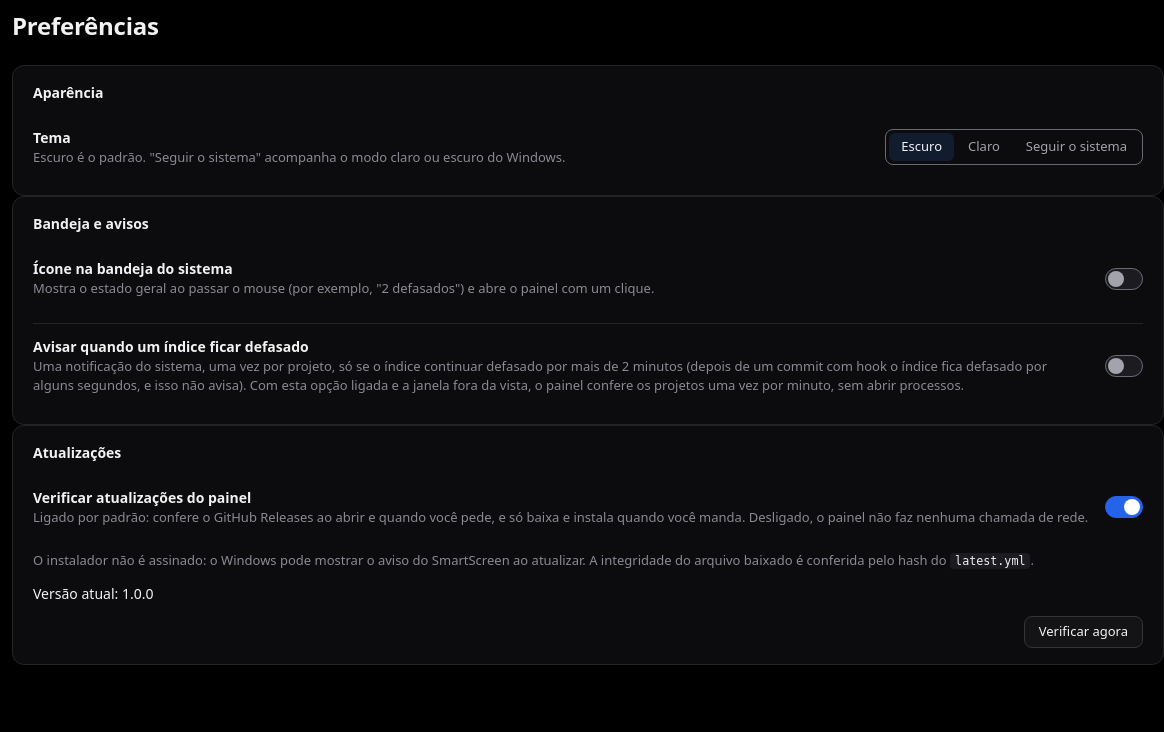
Test: PreferencesPage › falha ao salvar vira aviso e o interruptor não muda
The width and height of the screenshot is (1164, 732).
Click the switch named "Ícone na bandeja do sistema" in the row of "Ícone na bandeja do sistema".
click(1124, 278)  # box [1105, 268, 1143, 290]
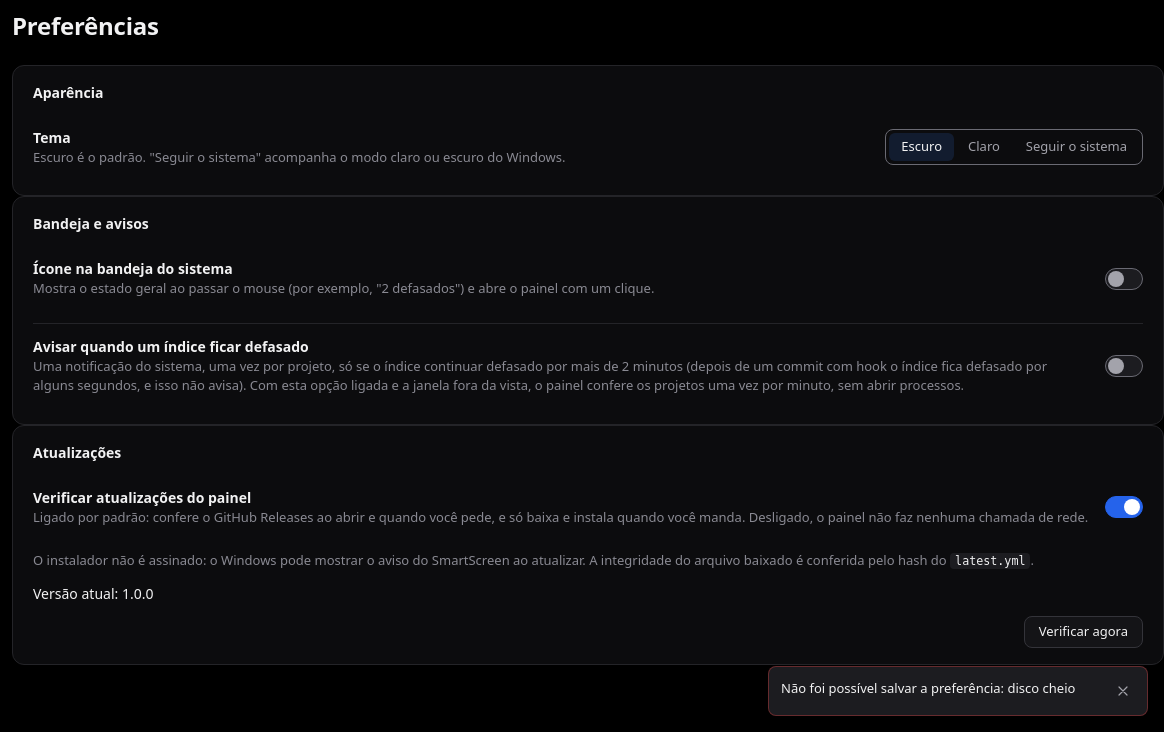
Check: the text "Não foi possível salvar a preferência: disco cheio" is shown, box [781, 675, 1099, 698]
